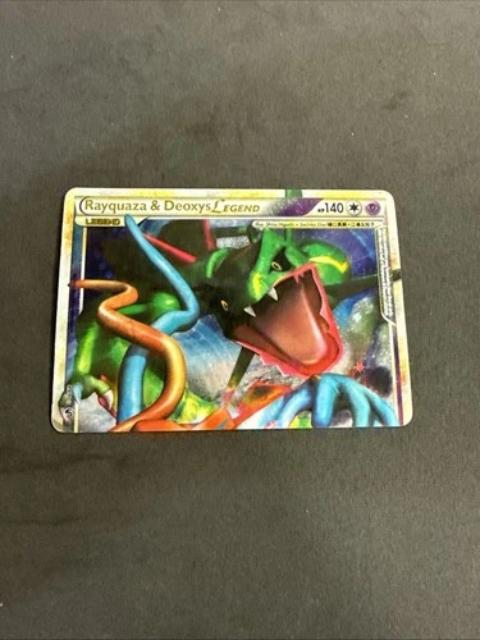Card: (47, 185, 416, 437)
Name: (79, 197, 266, 218)
